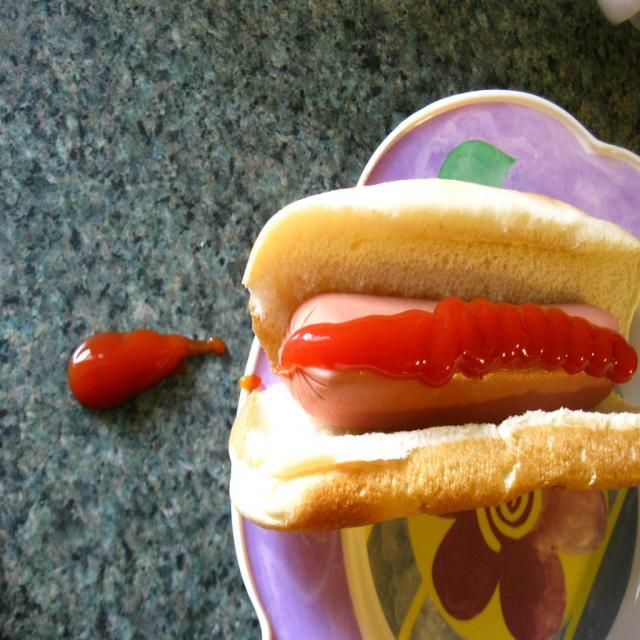Sandwich: (225, 177, 640, 536)
